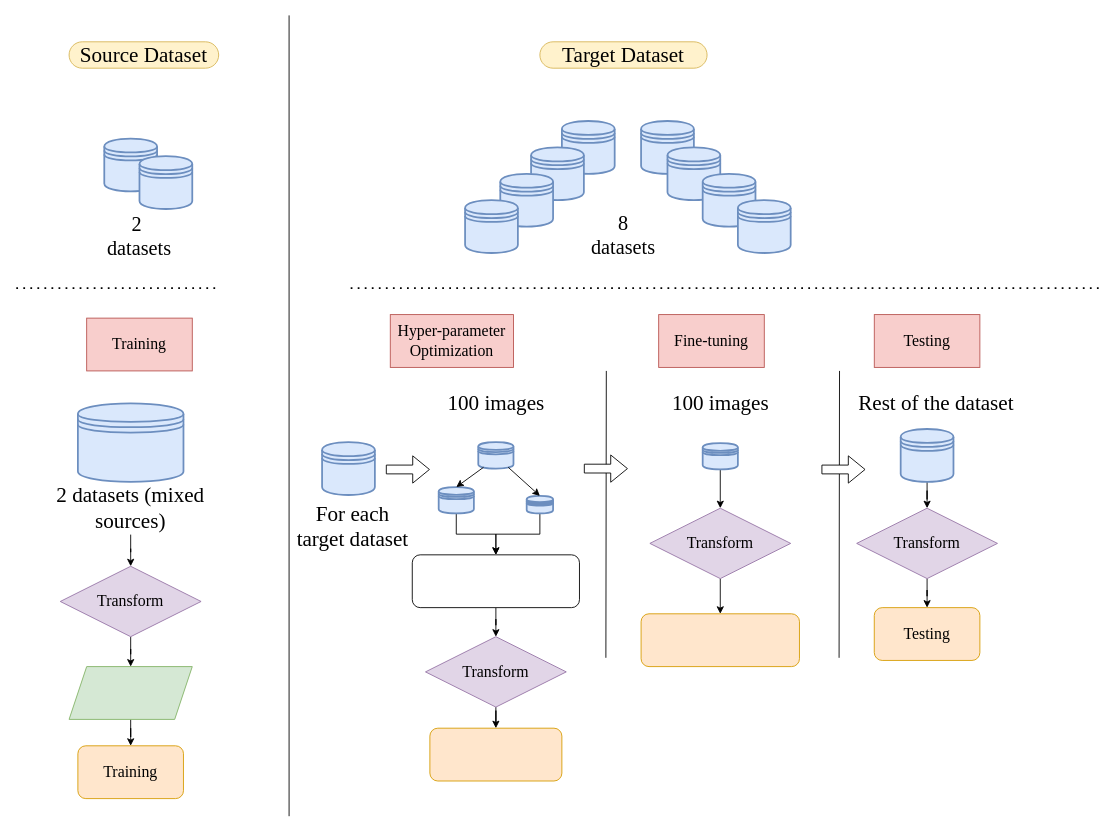
Image size: 1115x832. Some labels were removed from this diagram. The box of each missing label's shape, as (x1, y1, x2, y2) in pixels:
EfficientNet model: (68, 666, 192, 719)
Fine-tuning with best hyperparameters: (640, 613, 799, 667)
Hyperparameters optimization: (429, 727, 562, 781)
Split into 2/3 and 1/3 for 3-fold crossvalidation: (411, 554, 579, 608)
